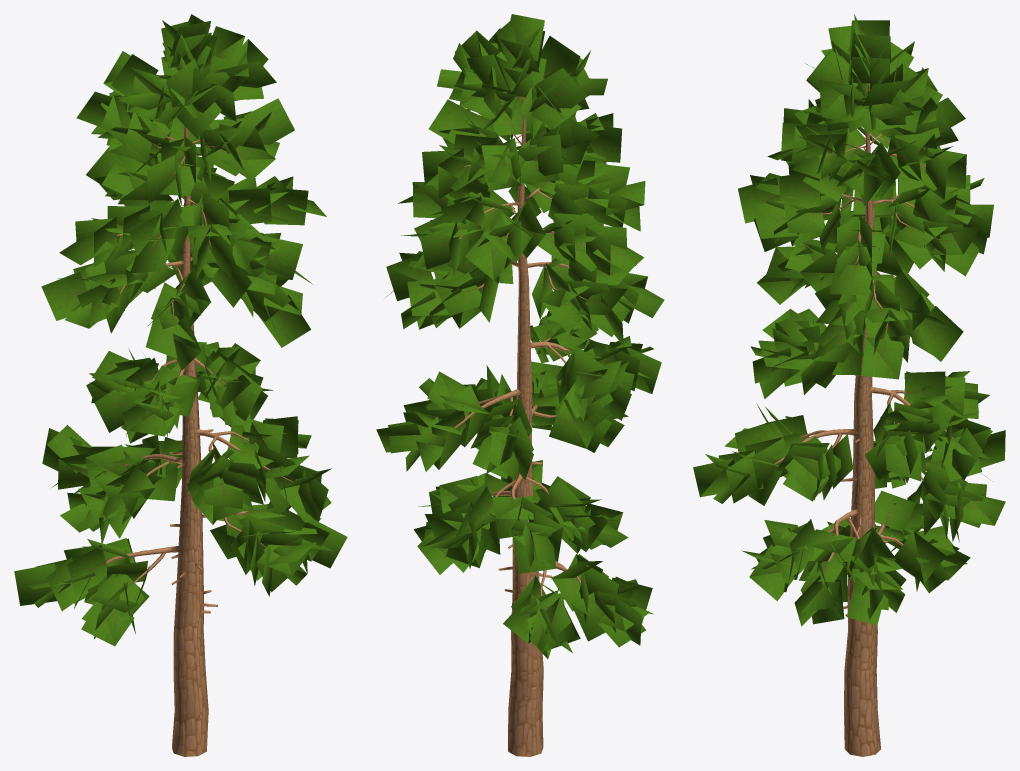
Rendered from Pine_02.glb.
3 views of the same model, side by side, from view 1: azimuth 30°, elevation 25°; view 2: azimuth 150°, elevation 25°; view 3: azimuth 270°, elevation 25° (orthographic).
Parts seen in each view (by area): view 1: Pine_02; view 2: Pine_02; view 3: Pine_02.
Part boxes in pixels (<box>): Pine_02: <box>14,14,347,756</box>; Pine_02: <box>376,14,664,756</box>; Pine_02: <box>693,14,1005,756</box>.
Bounding box in the file's own units: 7.22 × 18.52 × 7.21.
Materials: 2 (2 with a texture image).
